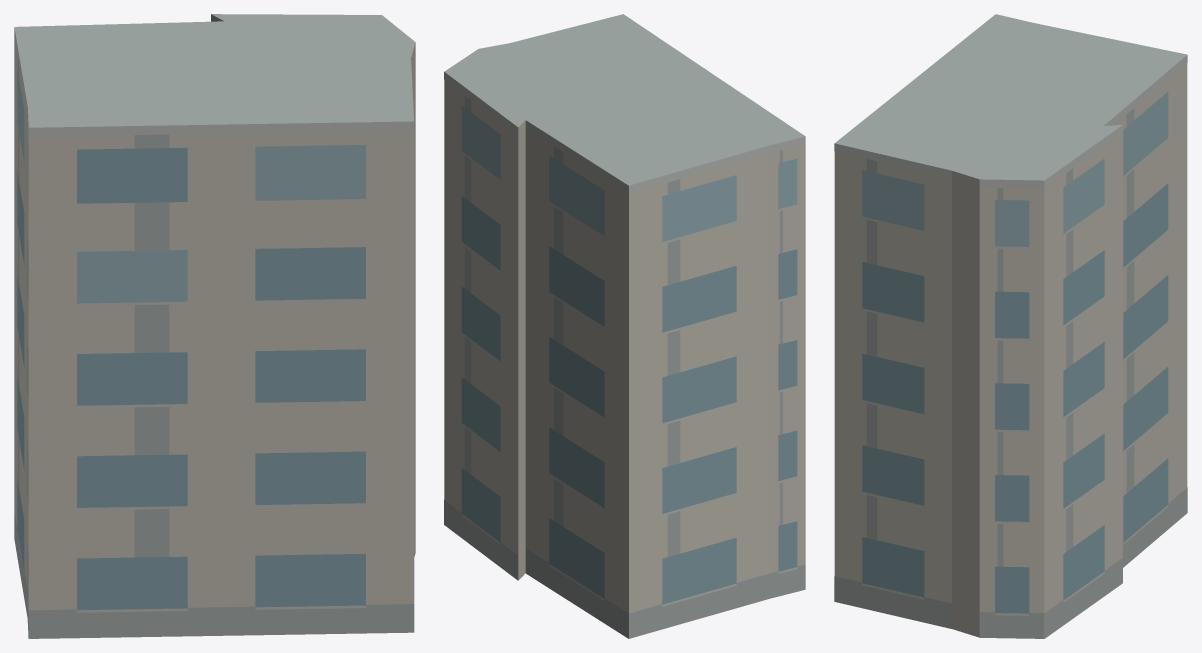
File: survey-upis-32994078.glb
The picture shows the model from 3 angles, left to right: view 1: azimuth 30°, elevation 25°; view 2: azimuth 150°, elevation 25°; view 3: azimuth 270°, elevation 25°; orthographic projection. The views are drawn at different scales.
Visible parts, largest first — view 1: survey-upis-32994078.tmp; view 2: survey-upis-32994078.tmp; view 3: survey-upis-32994078.tmp.
Boxes of the visible parts, x1,y1,x2,y2 form: survey-upis-32994078.tmp: (14, 14, 415, 638); survey-upis-32994078.tmp: (444, 14, 805, 638); survey-upis-32994078.tmp: (834, 14, 1187, 638).
Bounding box in the file's own units: 10.76 × 13.8 × 9.64.
